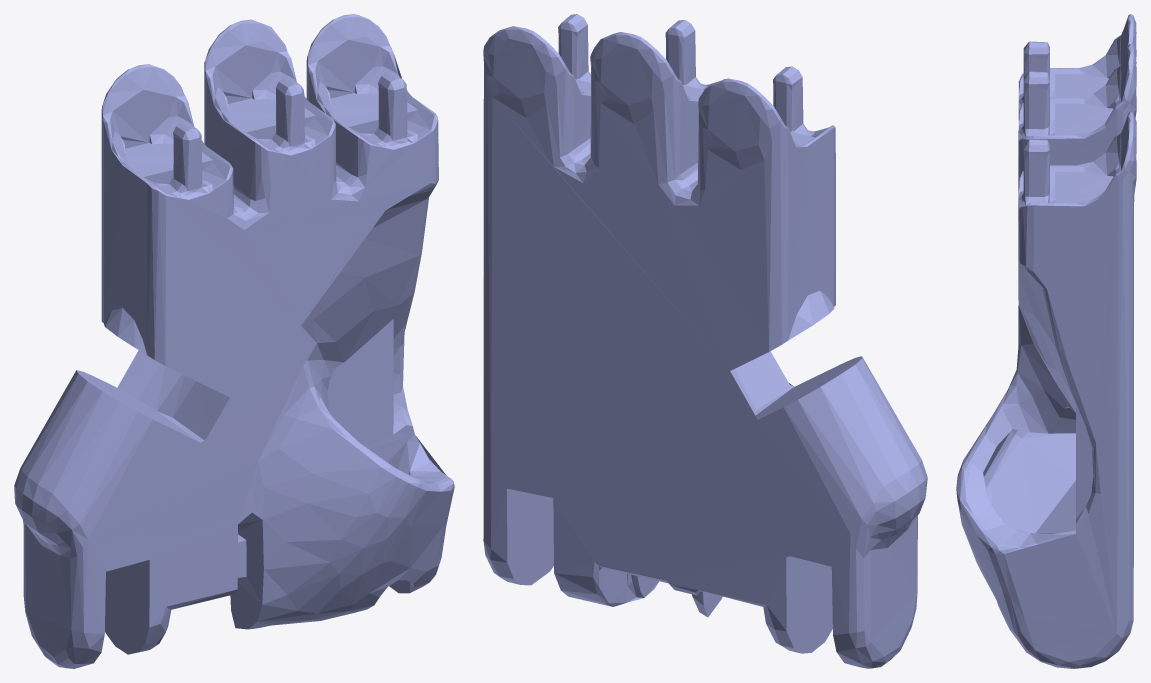
Rendered from palm.dae.
The picture shows the model from 3 angles, left to right: view 1: azimuth 30°, elevation 25°; view 2: azimuth 150°, elevation 25°; view 3: azimuth 270°, elevation 25°; orthographic projection. The views are drawn at different scales.
Visible parts, largest first — view 1: palm; view 2: palm; view 3: palm.
Part boxes in pixels (box(x1,y1,x2,y2)): palm: box(14, 14, 454, 668); palm: box(483, 14, 927, 668); palm: box(956, 14, 1136, 668).
Size of the model in its own units: 84.23 by 34.38 by 117.
